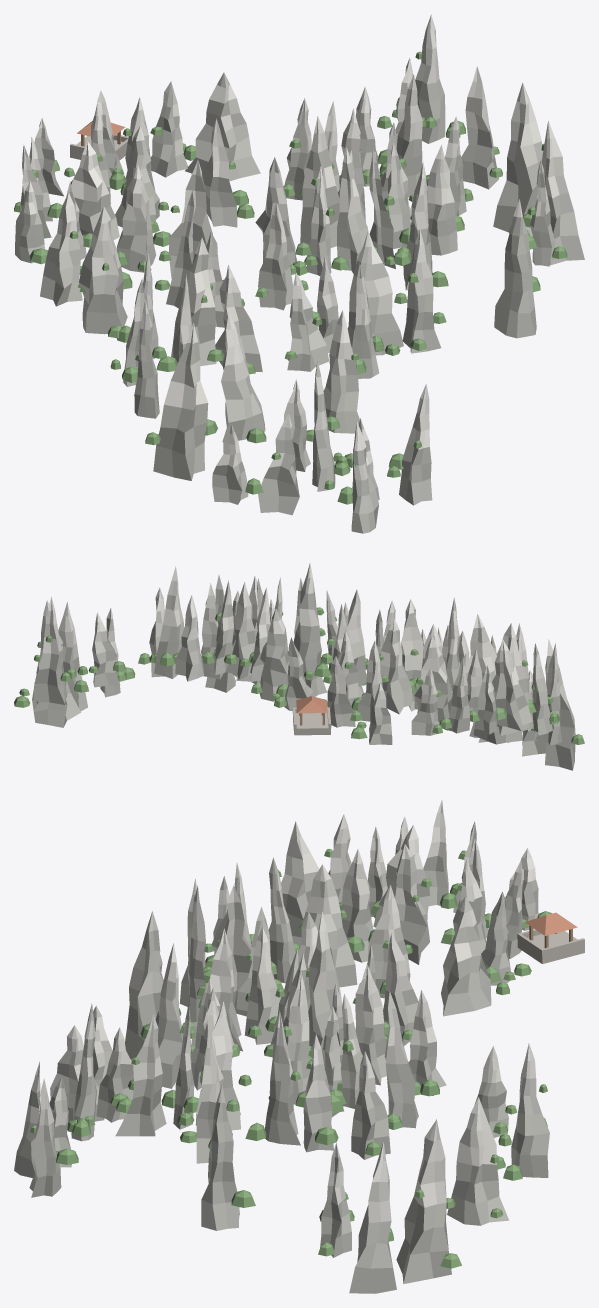
File: hinboun.glb
The picture shows the model from 3 angles, top to bottom: view 1: azimuth 30°, elevation 25°; view 2: azimuth 150°, elevation 25°; view 3: azimuth 270°, elevation 25°; orthographic projection. The views are drawn at different scales.
Visible parts, largest first — view 1: hinboun; view 2: hinboun; view 3: hinboun.
Part boxes in pixels (<box>): hinboun: <box>14,14,584,533</box>; hinboun: <box>14,562,584,770</box>; hinboun: <box>14,800,584,1293</box>.
Size of the model in its own units: 95.4 by 47.5 by 79.56.
